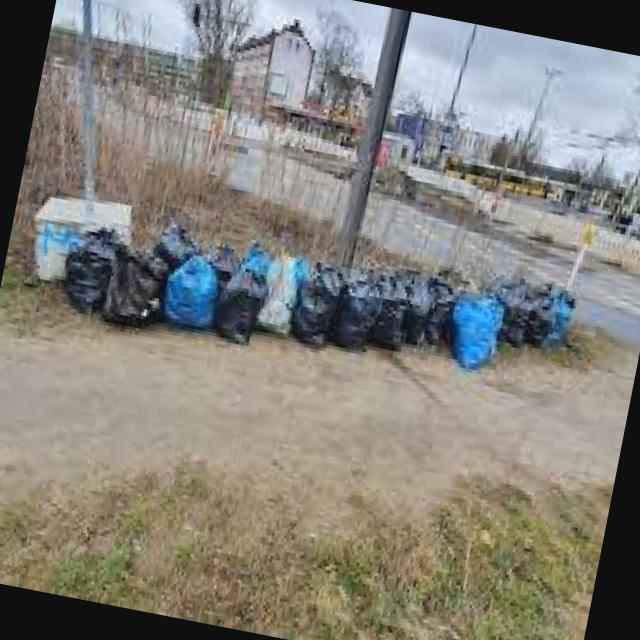garbage: (2, 156, 616, 402)
